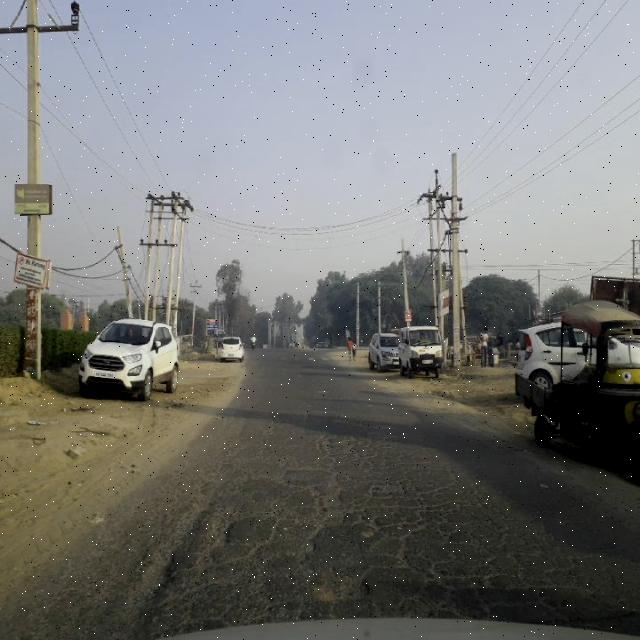D20: (80, 457, 639, 625)
D40: (300, 544, 392, 623)
